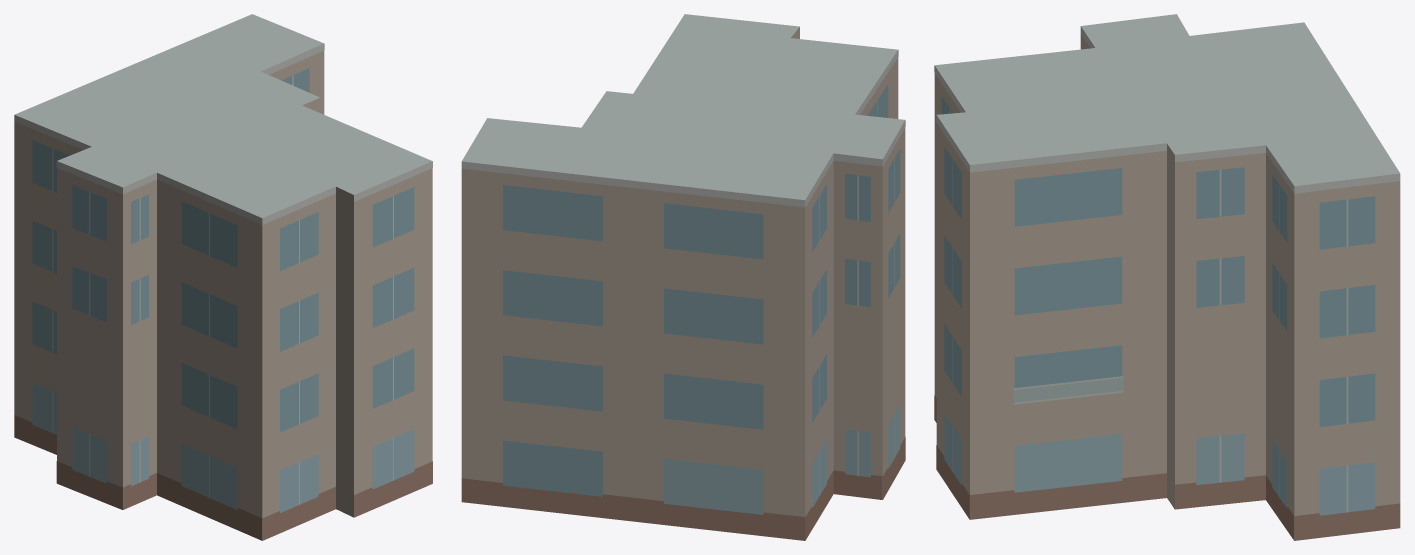
Rendered from survey-upis-32518397.glb.
3 views of the same model, side by side, from view 1: azimuth 30°, elevation 25°; view 2: azimuth 150°, elevation 25°; view 3: azimuth 270°, elevation 25° (orthographic). The views are drawn at different scales.
Parts seen in each view (by area): view 1: survey-upis-32518397.tmp; view 2: survey-upis-32518397.tmp; view 3: survey-upis-32518397.tmp.
Part boxes in pixels (left/top/right/bottom): survey-upis-32518397.tmp: left=14, top=14, right=432, bottom=540; survey-upis-32518397.tmp: left=461, top=14, right=905, bottom=540; survey-upis-32518397.tmp: left=934, top=14, right=1400, bottom=540.
Size of the model in its own units: 11.99 by 11.5 by 13.7.
